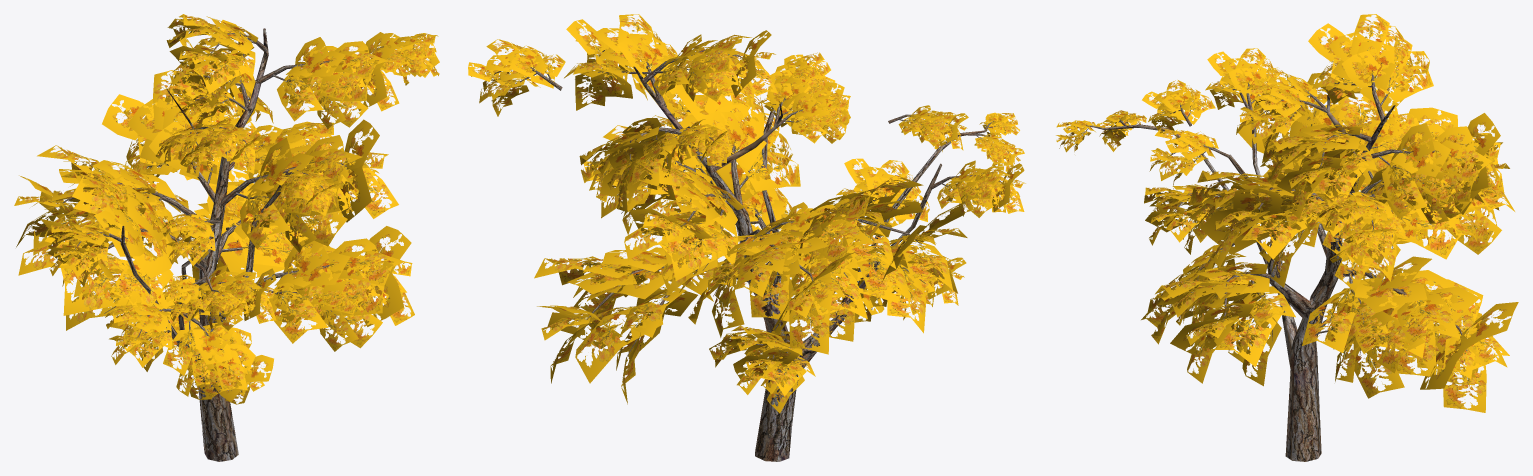
Rendered from tree_oak.dae.
The picture shows the model from 3 angles, left to right: view 1: azimuth 30°, elevation 25°; view 2: azimuth 150°, elevation 25°; view 3: azimuth 270°, elevation 25°; orthographic projection. The views are drawn at different scales.
Parts seen in each view (by area): view 1: tree_small_joined; view 2: tree_small_joined; view 3: tree_small_joined.
Boxes of the visible parts, x1,y1,x2,y2 form: tree_small_joined: (14, 14, 439, 461); tree_small_joined: (468, 14, 1025, 461); tree_small_joined: (1056, 14, 1518, 461).
Size of the model in its own units: 4.98 by 4.2 by 4.4.
